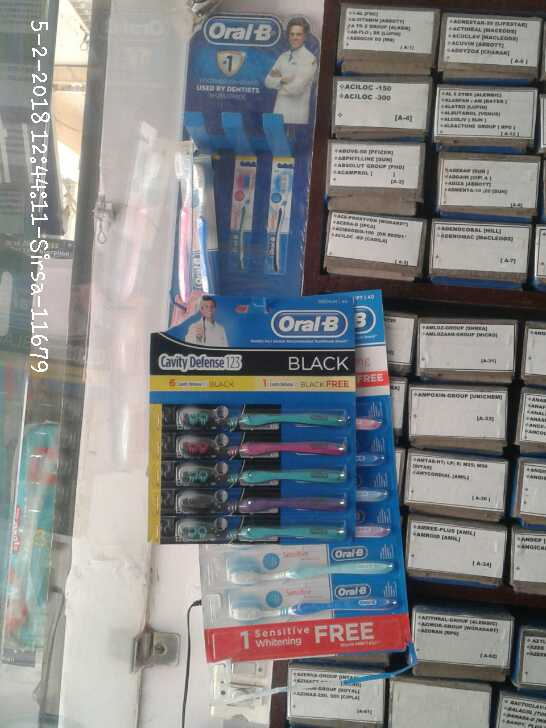oralb: (169, 431, 341, 474), (176, 389, 346, 432), (153, 465, 353, 497), (167, 483, 345, 514), (178, 515, 346, 544)
